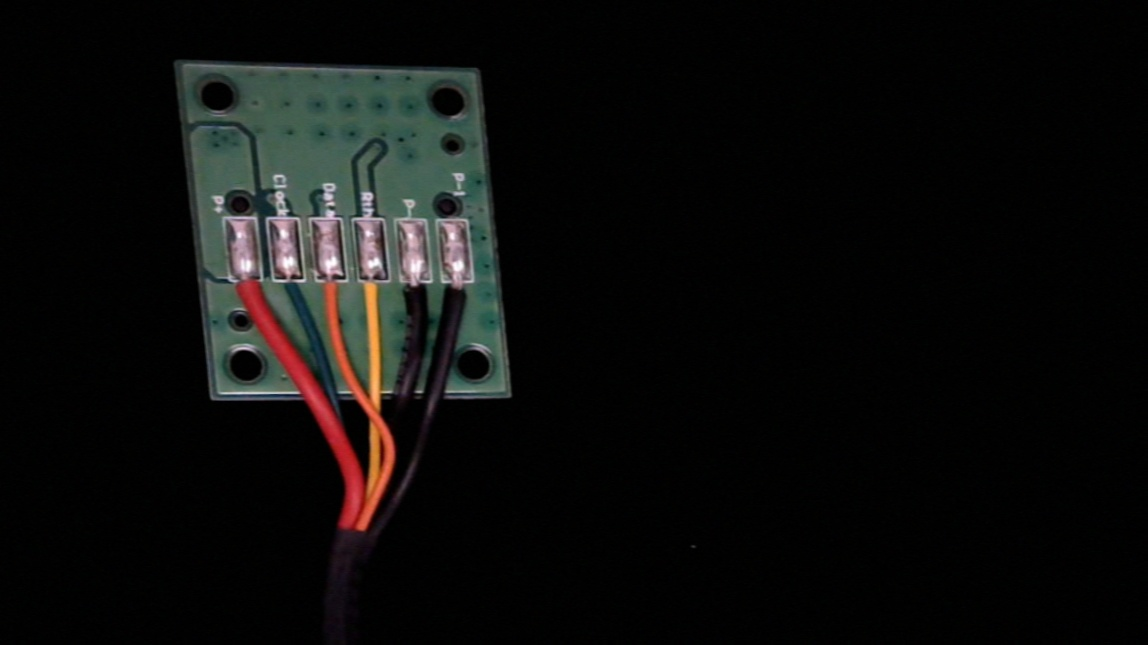Black: (397, 268, 437, 335)
Black1: (442, 270, 484, 337)
Green: (270, 265, 313, 327)
Orange: (313, 265, 353, 327)
Red: (226, 265, 270, 335)
Yellow: (358, 267, 394, 332)
